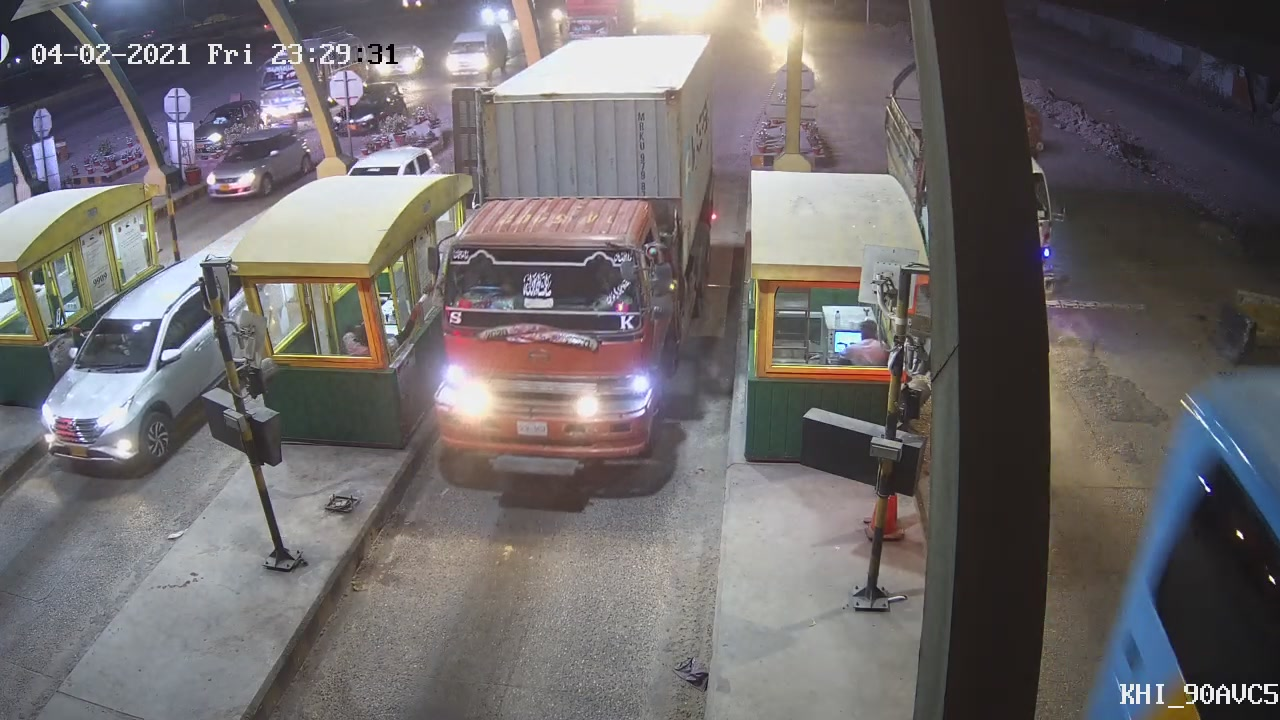F6: (429, 31, 740, 487)
